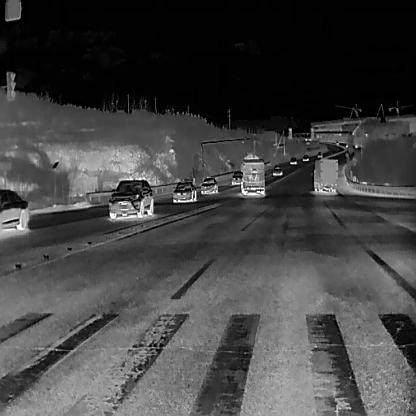car: (106, 177, 154, 218), (0, 189, 28, 229), (171, 179, 196, 202), (199, 176, 218, 194), (230, 168, 242, 184), (271, 162, 282, 174), (288, 156, 296, 163), (301, 153, 308, 160), (316, 149, 322, 157), (327, 149, 331, 154), (344, 142, 348, 147), (334, 140, 338, 144)
truck: (238, 150, 264, 195), (309, 156, 338, 193), (352, 139, 358, 147)
